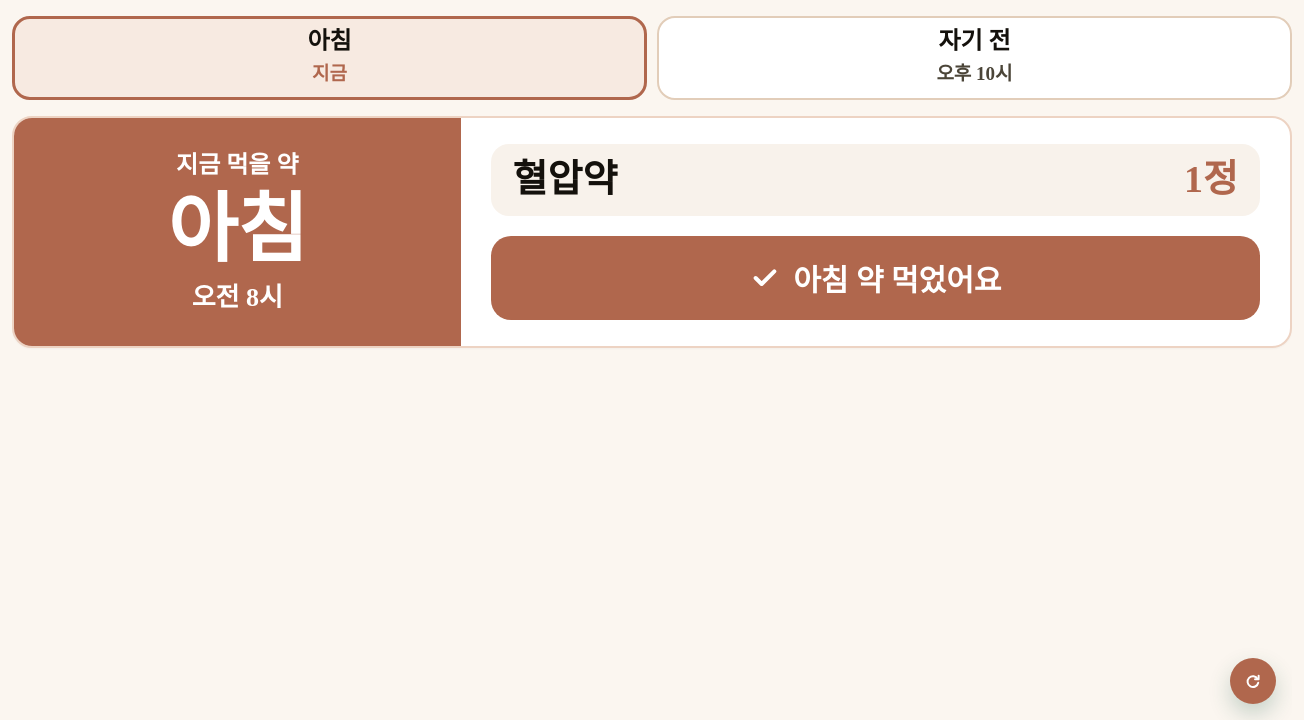
Test case: WardMedicationContent (Chrome) › 탭을 누르면 그 시간대 약을 보여 주고, 반 알은 "반 알"로 쓴다
Click the button "자기 전 오후 10시". click: (974, 41)
box: [657,16,1292,100]
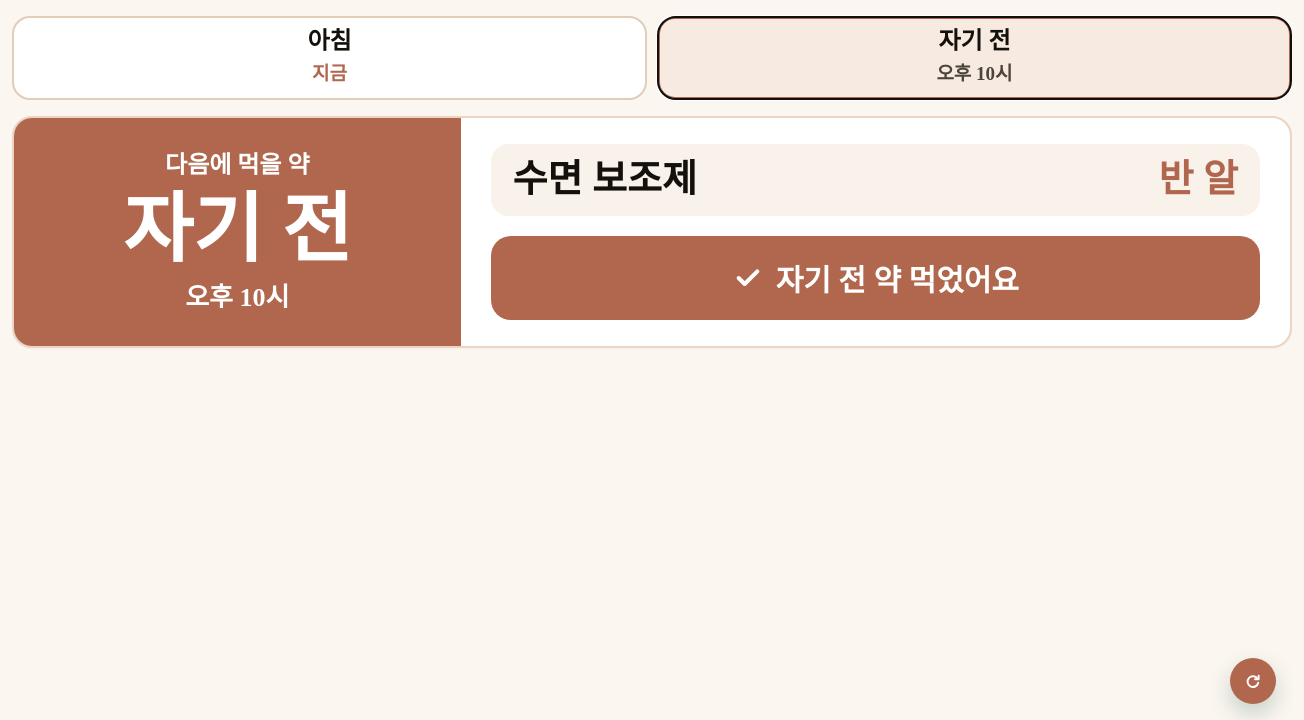
Check: the text "다음에 먹을 약" is shown, box [165,147,310,183]
Check: the text "반 알" is shown, box [1159,157,1238,203]
Check: the button "자기 전 약 먹었어요" is shown, box [491,236,1260,320]
